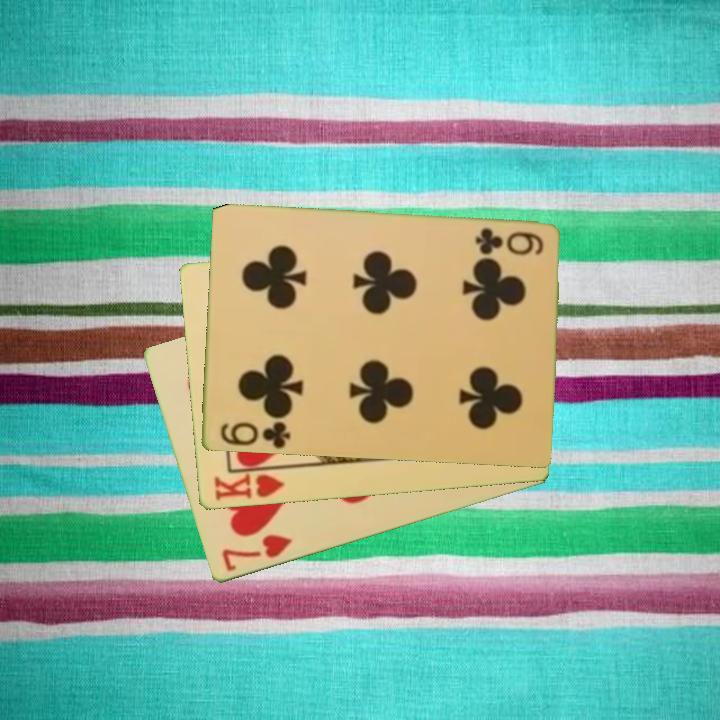6c: (471, 224, 546, 258), (216, 419, 293, 451)
7h: (218, 531, 296, 575)
Kh: (210, 465, 290, 504)
